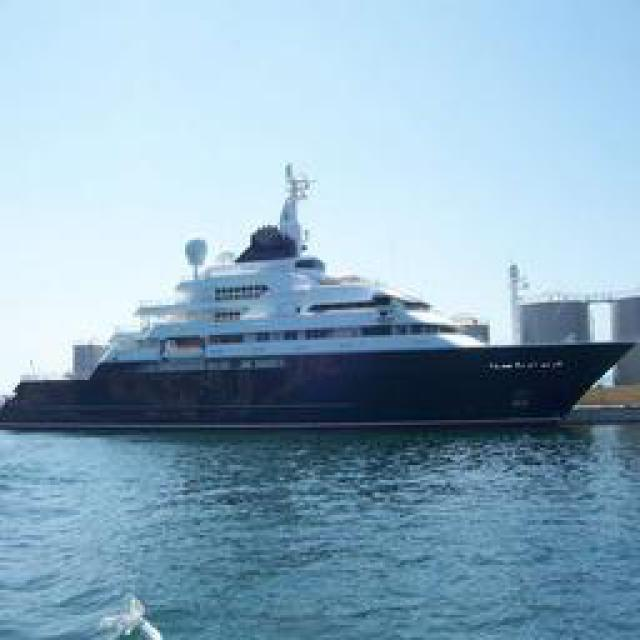Ship: (31, 166, 624, 431)
